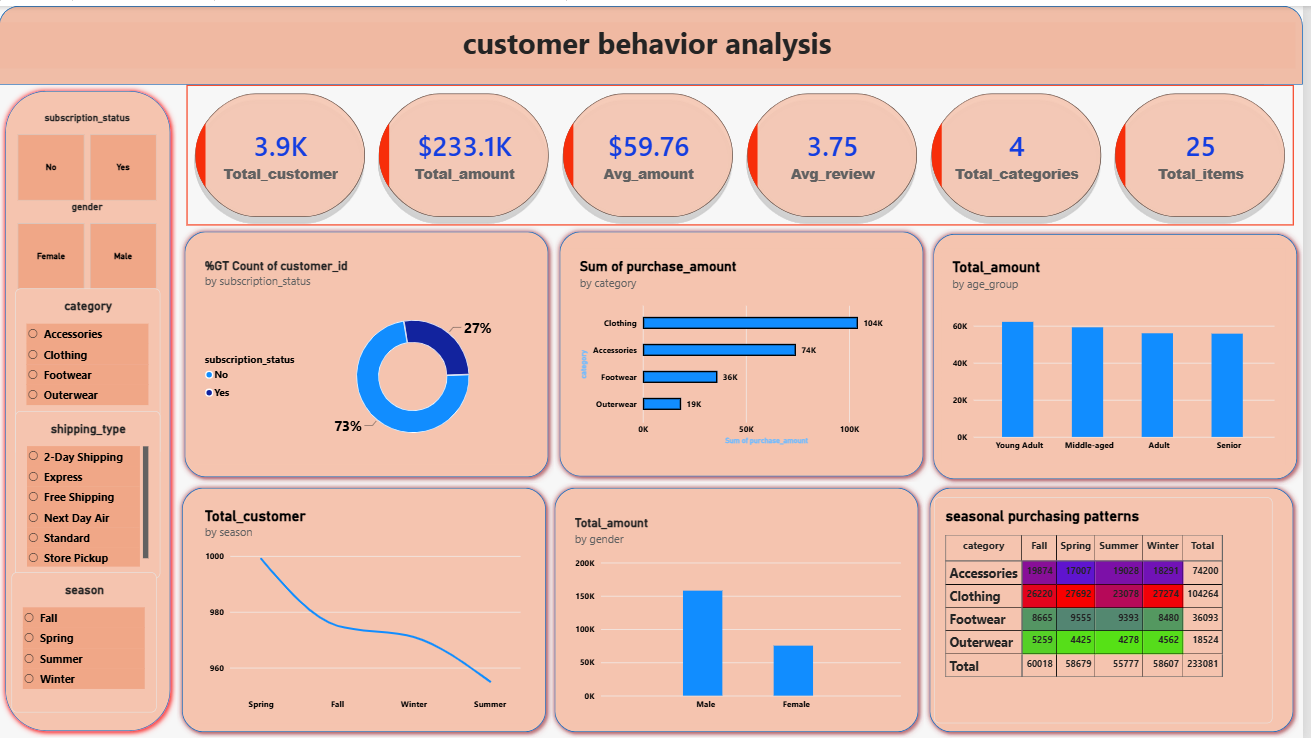

This screenshot's page, from the dashboard's own definition file:
{"tool":"powerbi","page":{"name":"Page 1","canvas":[1920,1080],"ordinal":0},"visuals":[{"type":"cardVisual","fields":{"Data":["customer.totalcustomer","customer.total_amount","customer.avg_amount","customer.Avg_review","customer.total_categories","customer.total_items"]},"box":[276.1,116,1632.5,208],"z":0},{"type":"shape","box":[0,0,1919.6,116],"z":1},{"type":"textbox","box":[0,23.9,1908.6,68.1],"z":2},{"type":"shape","box":[265,323.9,552,378],"z":3},{"type":"shape","box":[817.2,323.9,552,377],"z":4},{"type":"shape","box":[809.8,701.2,552,376],"z":5},{"type":"shape","box":[1362,701.2,552,376],"z":6},{"type":"shape","box":[1367.5,327.6,552,377.3],"z":7},{"type":"shape","box":[261.4,701.2,552,376],"z":8},{"type":"donutChart","fields":{"Category":["customer.subscription_status"],"Y":["Sum(customer.customer_id)"]},"box":[287.1,357.1,496.9,318.4],"z":9},{"type":"clusteredBarChart","fields":{"Category":["customer.category"],"Y":["Sum(customer.purchase_amount)"]},"box":[839.3,357.1,504.3,305.5],"z":10},{"type":"columnChart","fields":{"Category":["customer.age_group"],"Y":["customer.Total_amount"]},"box":[1387.7,357.1,506.1,318.4],"z":11},{"type":"lineChart","fields":{"Category":["customer.season"],"Y":["customer.Total_customer"]},"box":[287.1,723.3,496.9,333.1],"z":12},{"type":"clusteredColumnChart","fields":{"Category":["customer.gender"],"Y":["customer.Total_amount"]},"box":[831.9,736.2,511.7,320.2],"z":13},{"type":"pivotTable","title":"seasonal purchasing patterns","fields":{"Columns":["customer.season"],"Rows":["customer.category"],"Values":["Sum(customer.purchase_amount)"]},"box":[1376.7,723.3,498.8,333.1],"z":14},{"type":"shape","box":[0,116,261.4,960.7],"z":15},{"type":"advancedSlicerVisual","fields":{"Values":["customer.subscription_status"]},"box":[27.6,156.4,204.3,130.7],"z":16},{"type":"advancedSlicerVisual","fields":{"Values":["customer.gender"]},"box":[27.6,287.1,204.3,130.7],"z":17},{"type":"listSlicer","fields":{"Values":["customer.category"]},"box":[23.9,416,213.5,246.6],"z":18},{"type":"listSlicer","fields":{"Values":["customer.shipping_type"]},"box":[23.9,596.3,213.5,246.6],"z":19},{"type":"listSlicer","fields":{"Values":["customer.season"]},"box":[18.4,833.7,213.5,206.1],"z":20}]}

Visuals, with their boxes in screenshot pixels (x1, y1, x2, y2), scaled from the page's 1920x1080 canvas onto the 1311x738 screenshot:
cardVisual - customer.totalcustomer x customer.total_amount: select_region(189, 79, 1303, 221)
shape: select_region(0, 0, 1310, 79)
textbox: select_region(0, 16, 1303, 63)
shape: select_region(181, 221, 558, 480)
shape: select_region(558, 221, 935, 479)
shape: select_region(553, 479, 930, 736)
shape: select_region(930, 479, 1307, 736)
shape: select_region(934, 224, 1310, 482)
shape: select_region(178, 479, 555, 736)
donutChart - customer.subscription_status x Sum(customer.customer_id): select_region(196, 244, 535, 462)
clusteredBarChart - customer.category x Sum(customer.purchase_amount): select_region(573, 244, 917, 453)
columnChart - customer.age_group x customer.Total_amount: select_region(948, 244, 1293, 462)
lineChart - customer.season x customer.Total_customer: select_region(196, 494, 535, 722)
clusteredColumnChart - customer.gender x customer.Total_amount: select_region(568, 503, 917, 722)
"seasonal purchasing patterns" pivotTable: select_region(940, 494, 1281, 722)
shape: select_region(0, 79, 178, 736)
advancedSlicerVisual - customer.subscription_status: select_region(19, 107, 158, 196)
advancedSlicerVisual - customer.gender: select_region(19, 196, 158, 285)
listSlicer - customer.category: select_region(16, 284, 162, 453)
listSlicer - customer.shipping_type: select_region(16, 407, 162, 576)
listSlicer - customer.season: select_region(13, 570, 158, 711)
